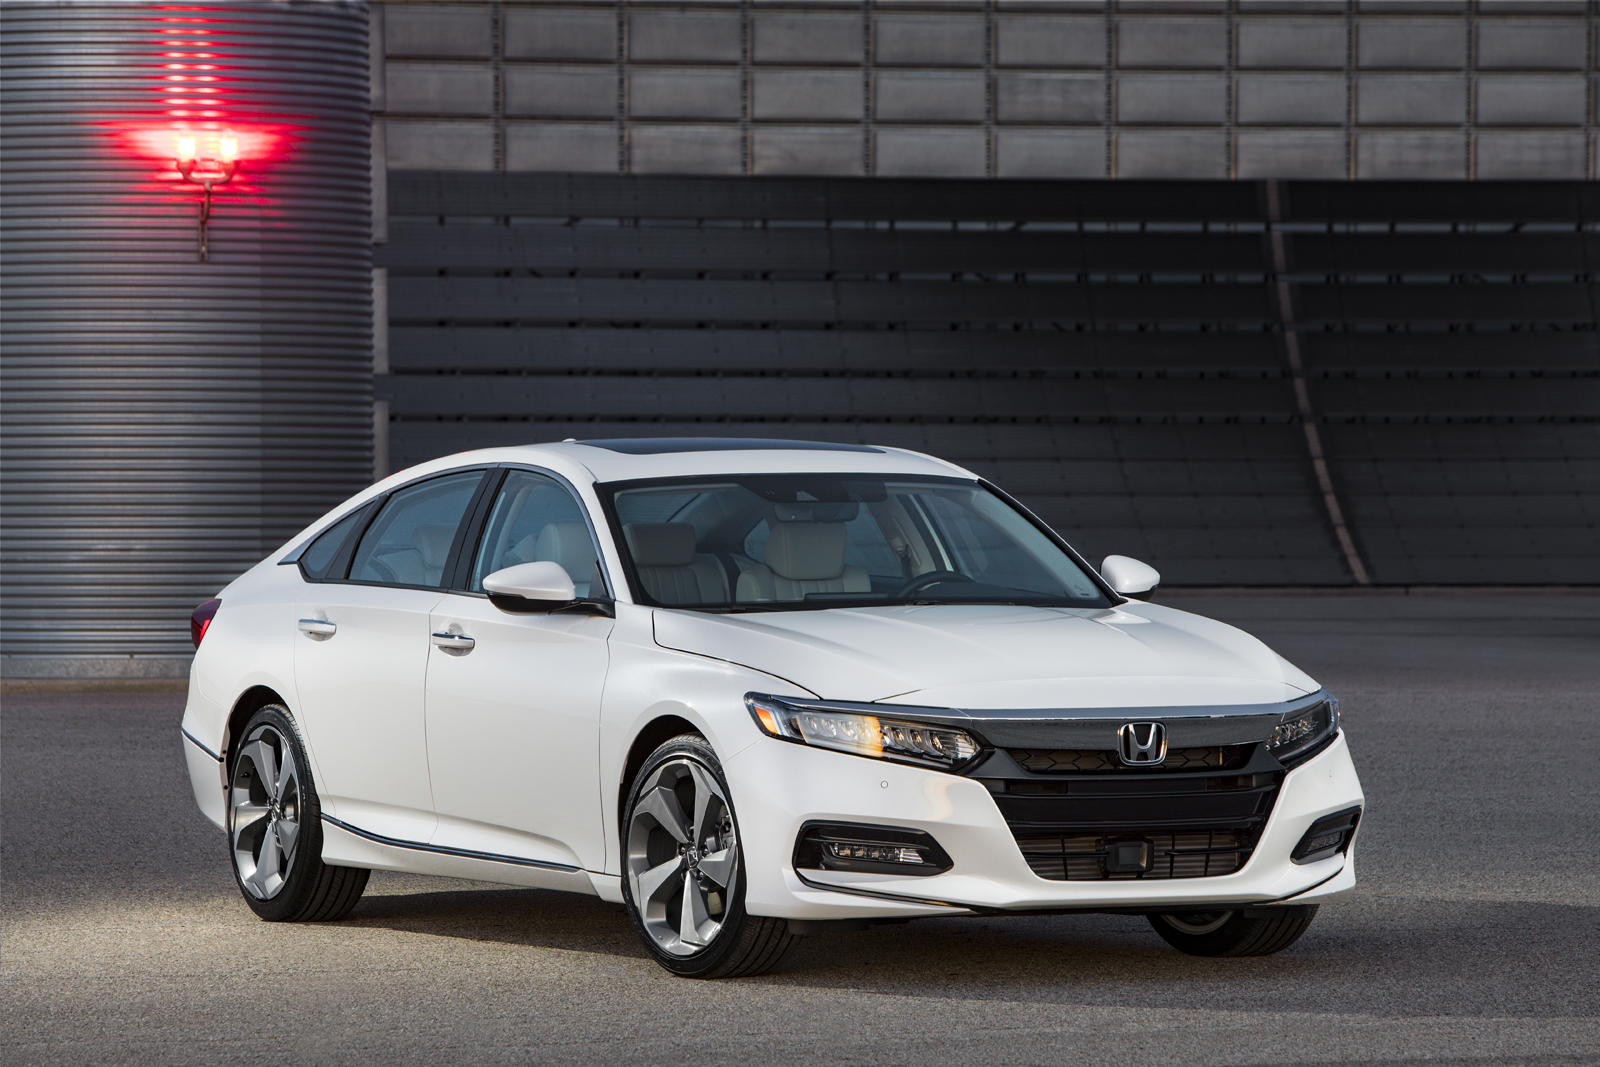accord: (152, 413, 1390, 1012)
